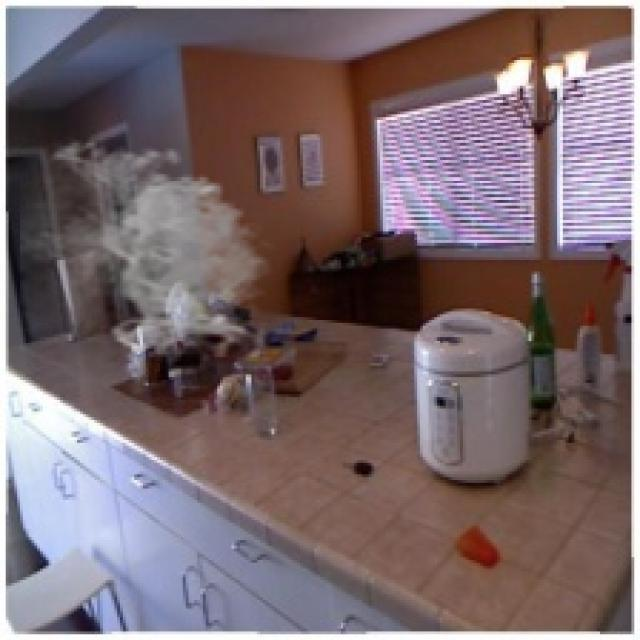Smoke: (19, 134, 274, 357)
